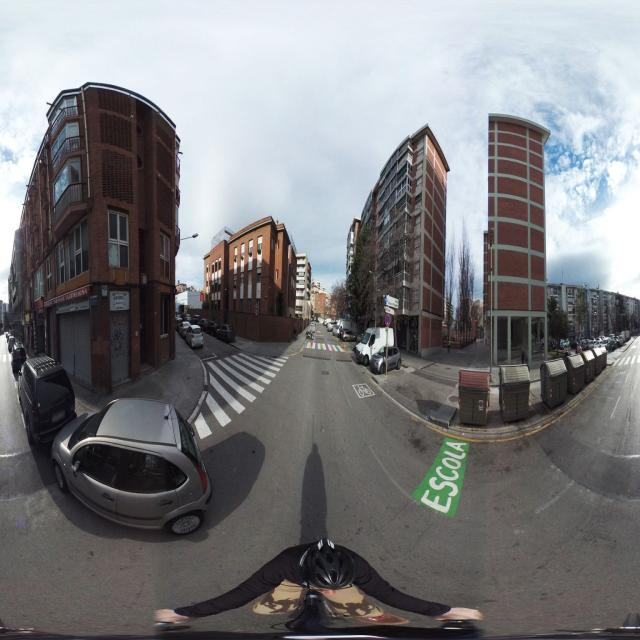forb_stopping: (385, 315, 390, 327)
